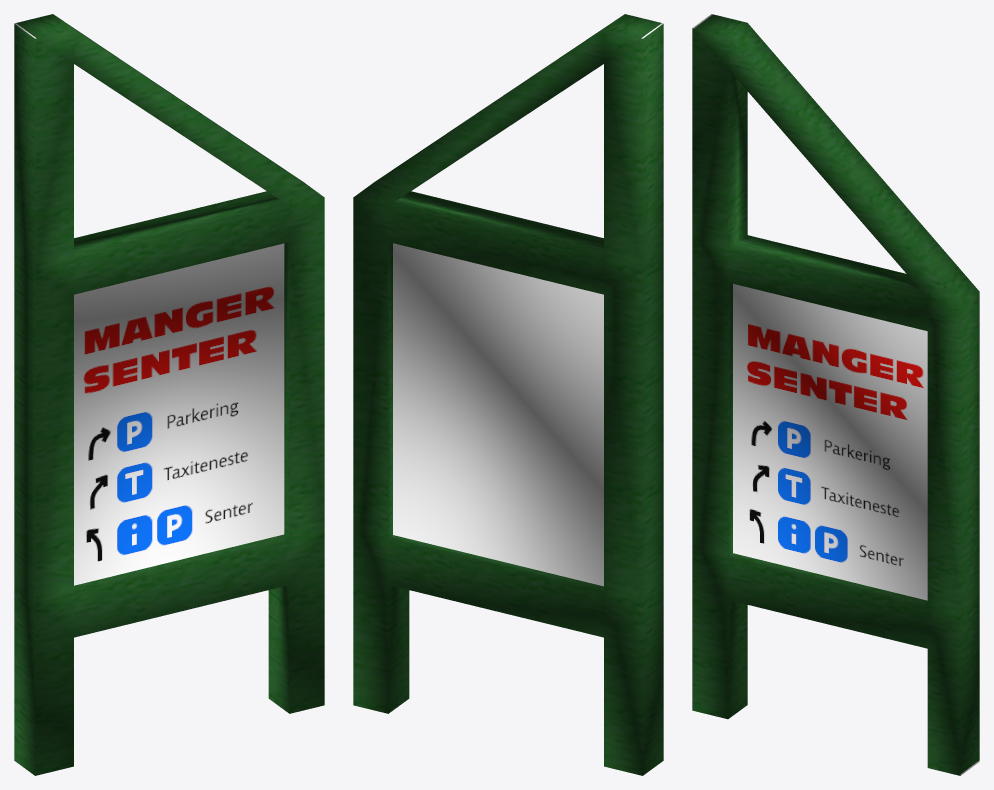
Rendered from MangerSkilt_EXP.fbx.
3 renders of one model, left to right at view 1: azimuth 30°, elevation 25°; view 2: azimuth 150°, elevation 25°; view 3: azimuth 330°, elevation 25°, orthographic. The views are drawn at different scales.
Parts seen in each view (by area): view 1: MangerSkilt; view 2: MangerSkilt; view 3: MangerSkilt.
Boxes of the visible parts, x1,y1,x2,y2 form: MangerSkilt: (14,14,324,775); MangerSkilt: (353,14,663,775); MangerSkilt: (692,14,979,775).
Size of the model in its own units: 1 by 2.43 by 0.1258.
1 material, 1 textured.
